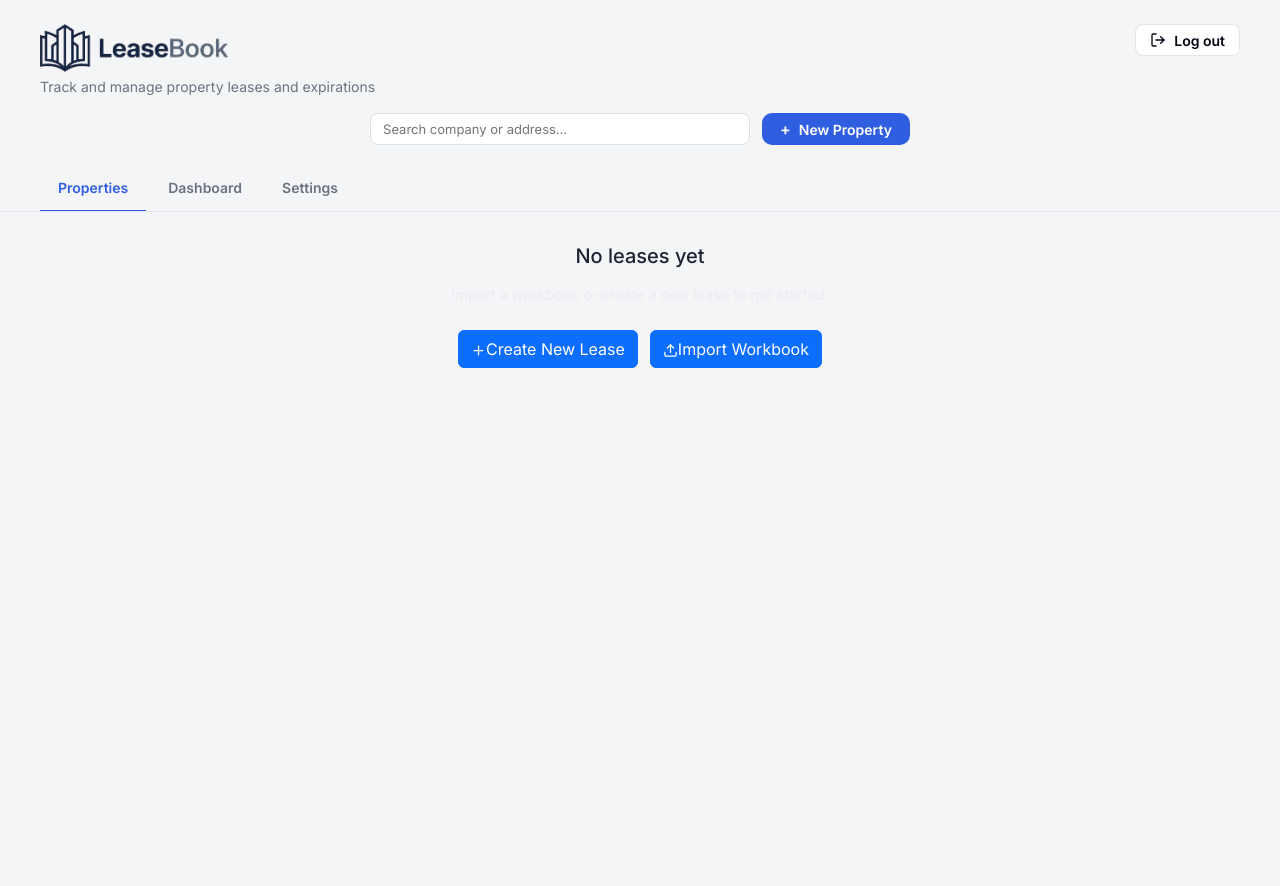
Test: App auth flow › requires password and passkey confirmation before removing passkeys from Settings
This screenshot has width=1280, height=886.
Click the button "Settings": (310, 188) [264,165,356,212]
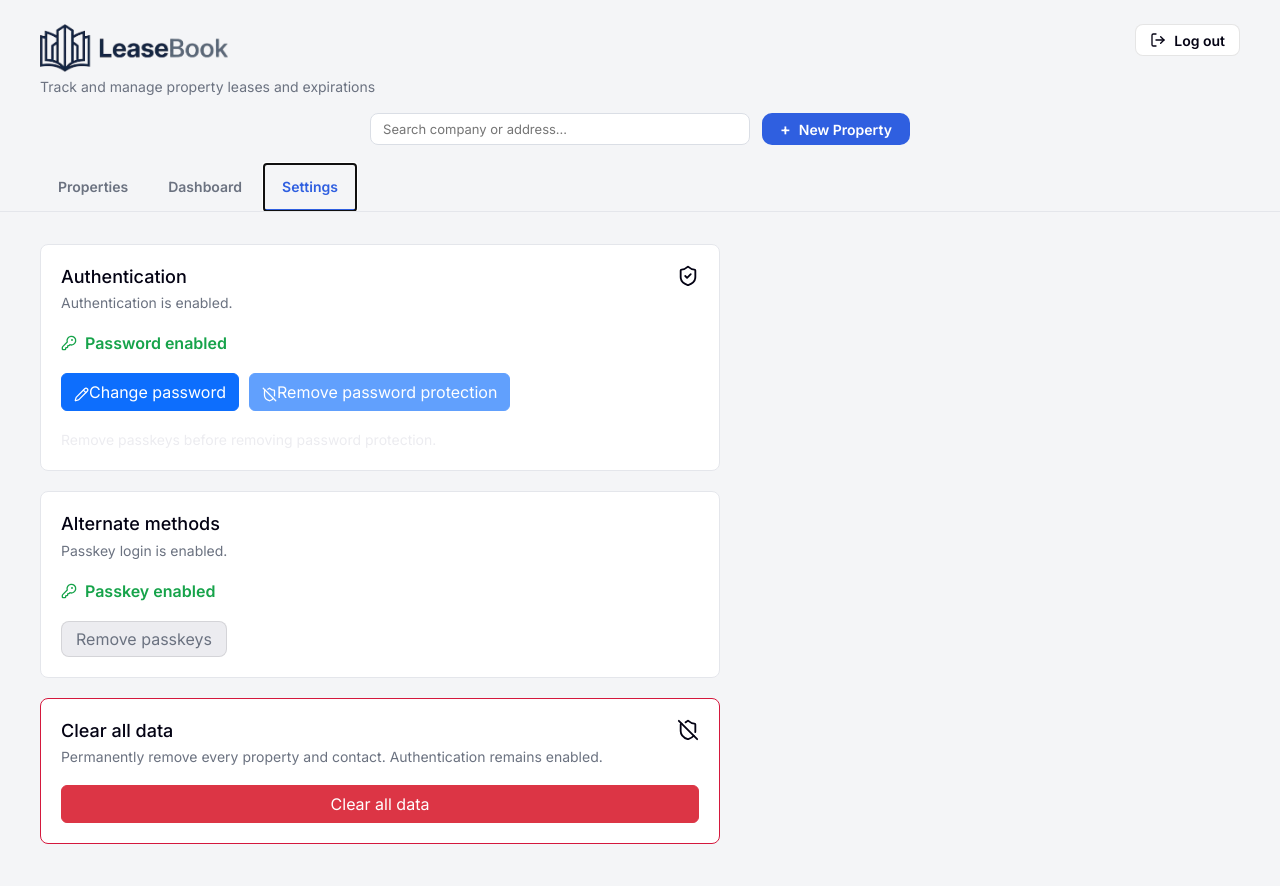
Click the button "Remove passkeys": (144, 639) [61,621,227,657]
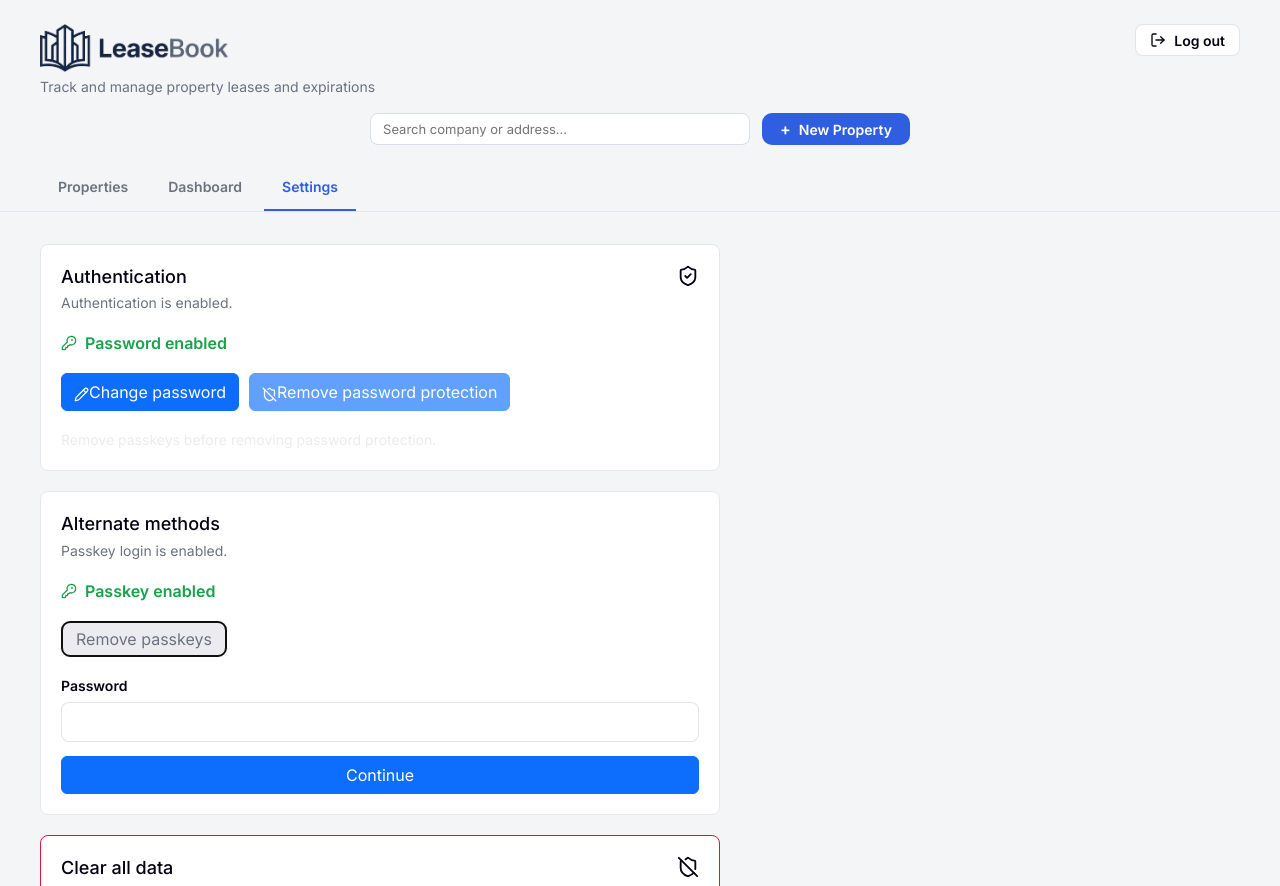
In the password field labelled "Password": (380, 722) [61,702,699,742], type "correct-password"
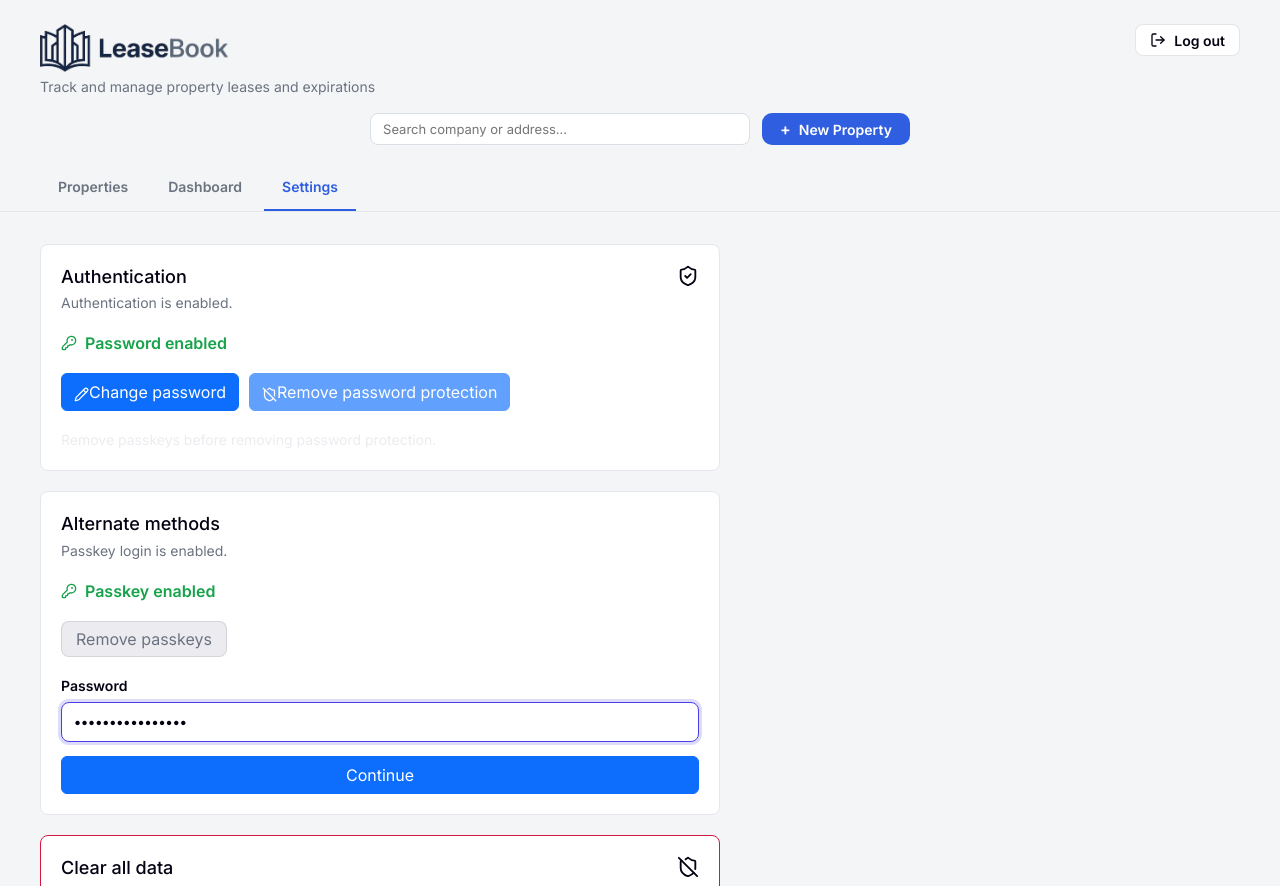
Click the button "Continue": (380, 775) [61,756,699,794]
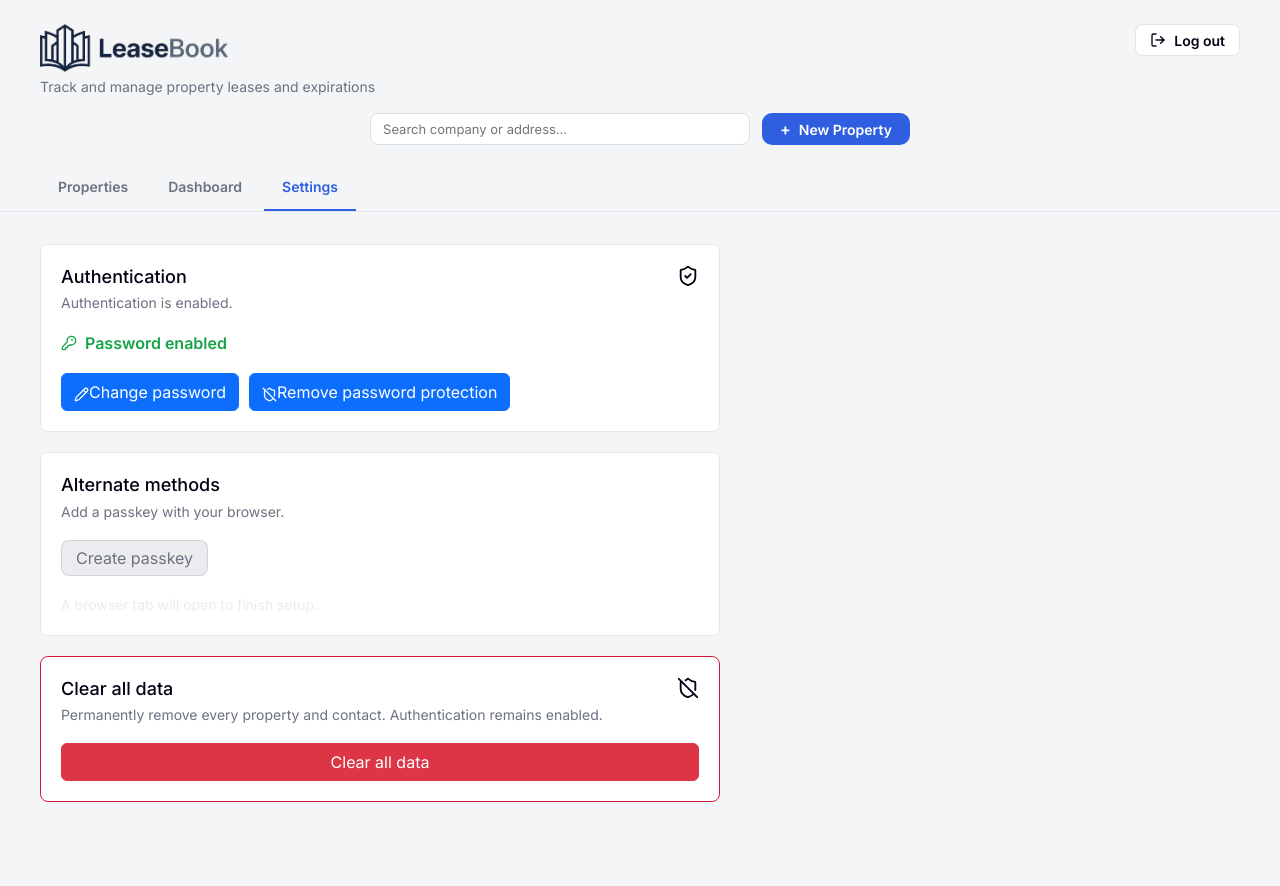
Now the text "Add a passkey with your browser." is shown, box [61,501,284,522]
